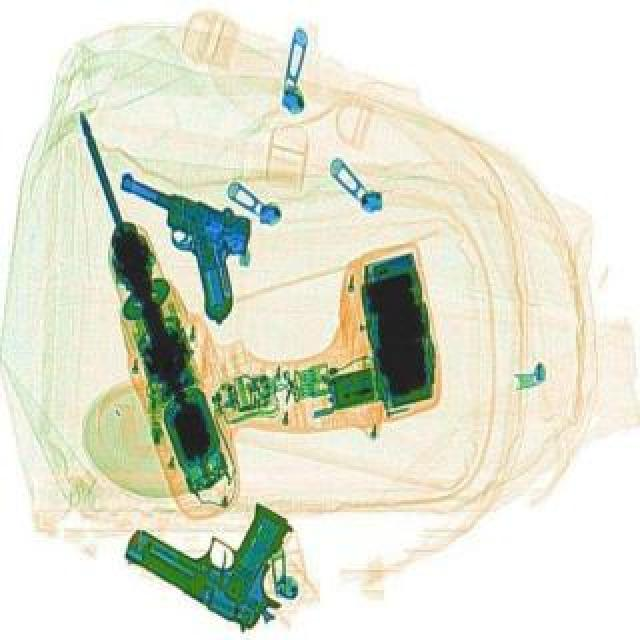gun: (112, 460, 316, 634), (78, 168, 270, 324)
